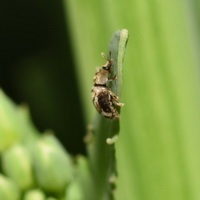insect: (91, 60, 123, 118)
